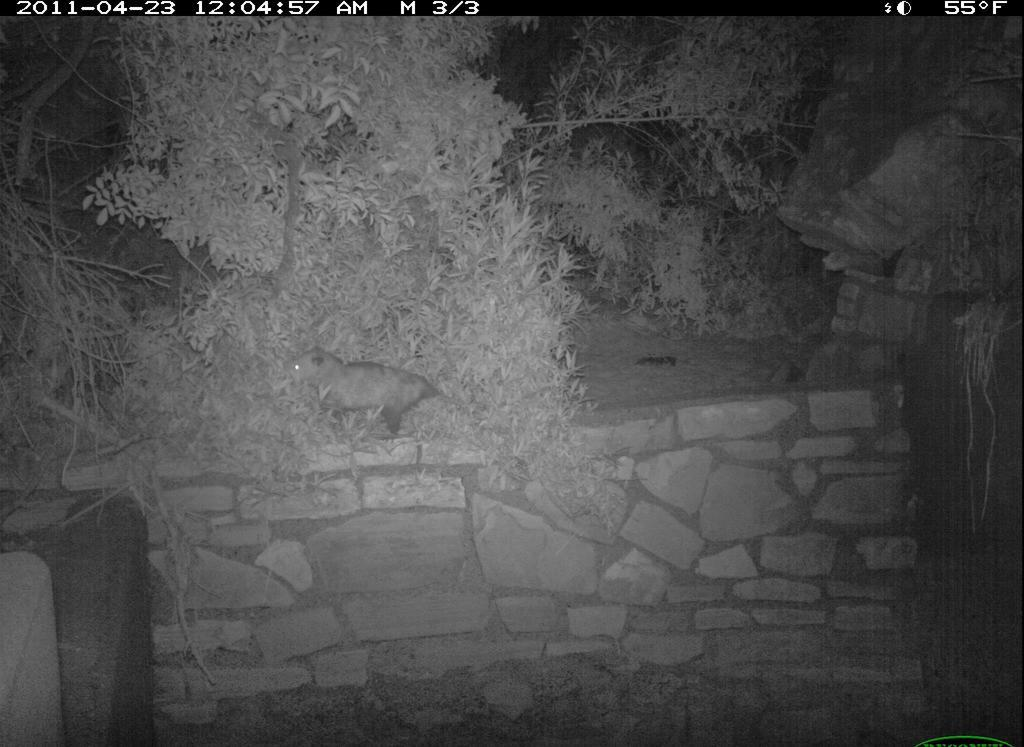opossum: (286, 344, 450, 443)
